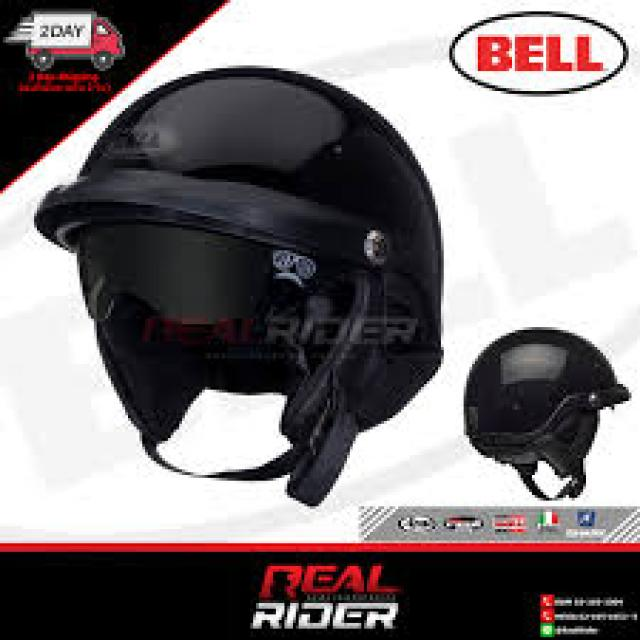Helmet: (35, 69, 440, 504), (465, 330, 630, 499)
